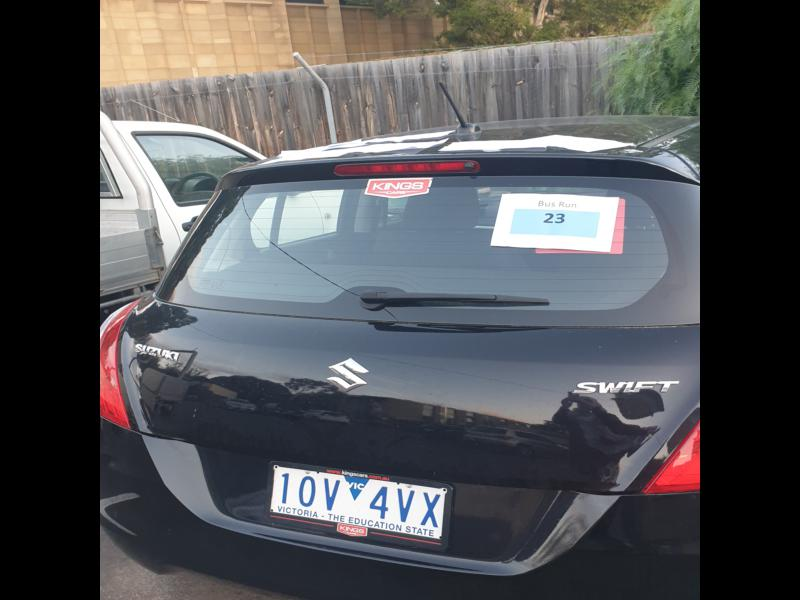BusRun: (511, 208, 600, 237)
PlateNo: (267, 465, 446, 537)
